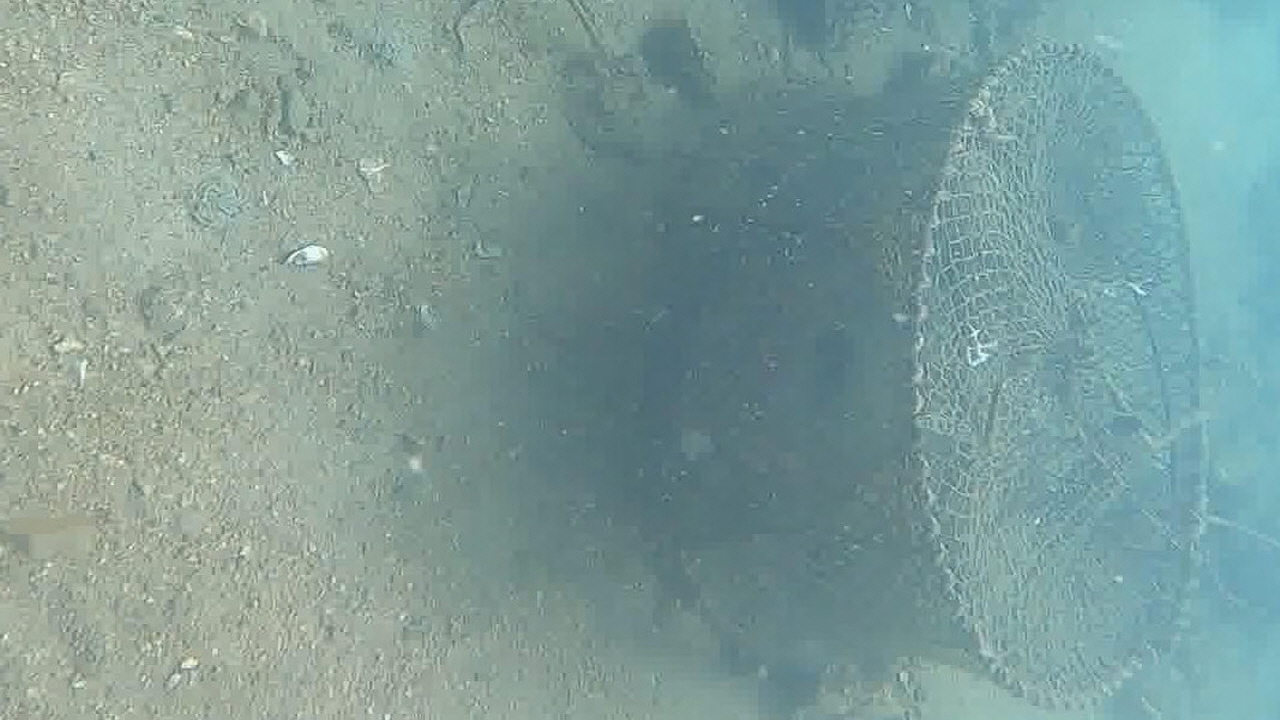circular fish trap: (638, 37, 1212, 709)
